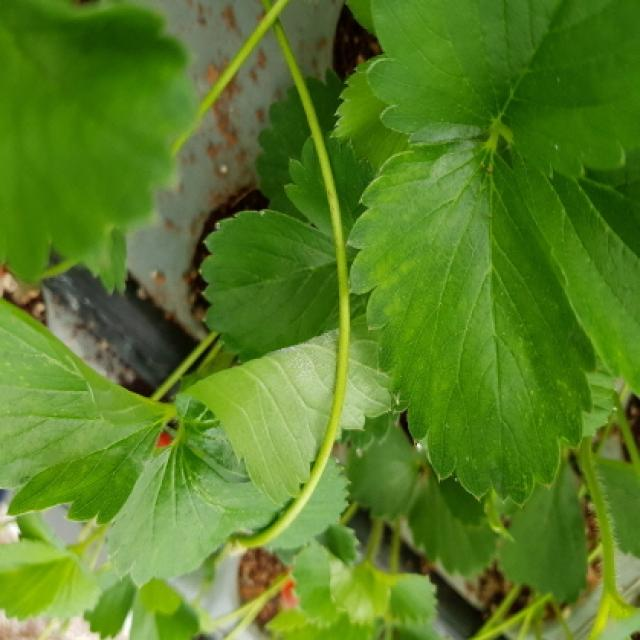Powdery Mildew Leaf: (171, 313, 395, 508)
